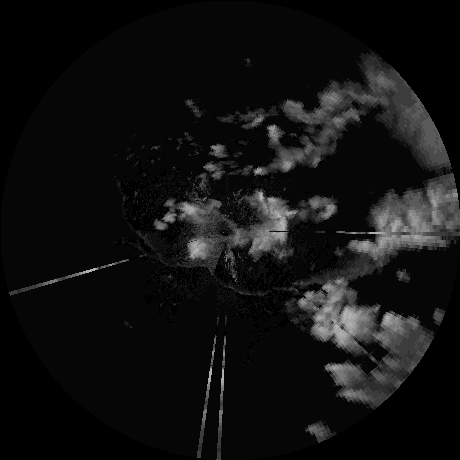frontgust: (214, 273, 324, 298), (134, 234, 205, 269)
